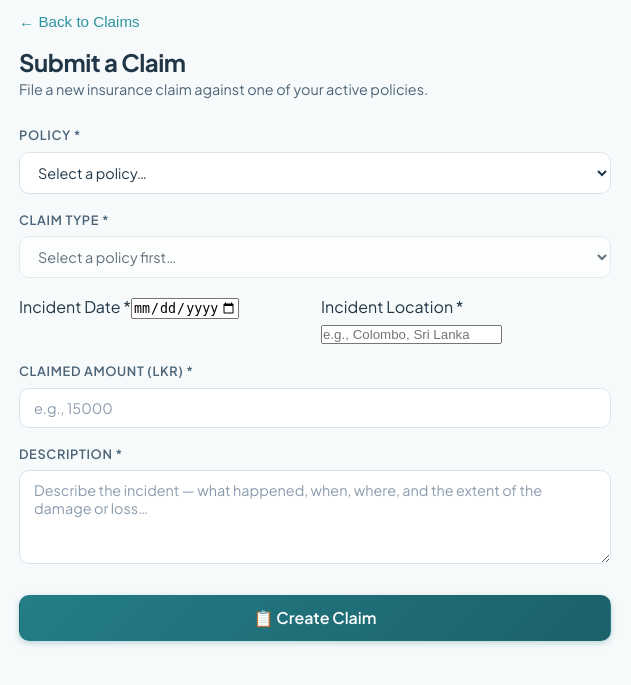
Scenario: ClaimCreate Compatibility & Safety Tests › blocks claim submission and shows error message when unsupported policy is selected
Select "POL-PNS-001 — Pension (Coverage: LKR 1,000,000.00)" in the dropdown labelled "Policy *". click: (315, 172)
box: [19,152,611,194]
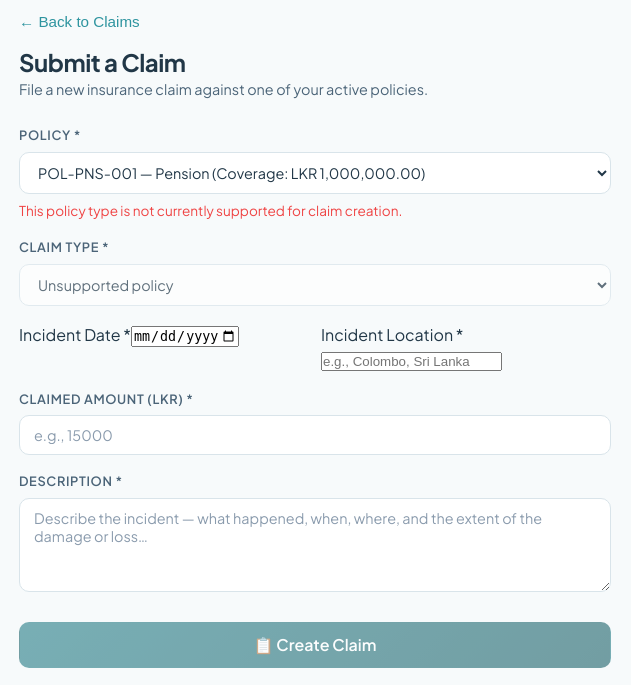
Expected: the text "This policy type is not currently supported for claim creation." is shown, [19,202,402,218]
Expected: the button "📋 Create Claim" is disabled, [19,622,611,668]
